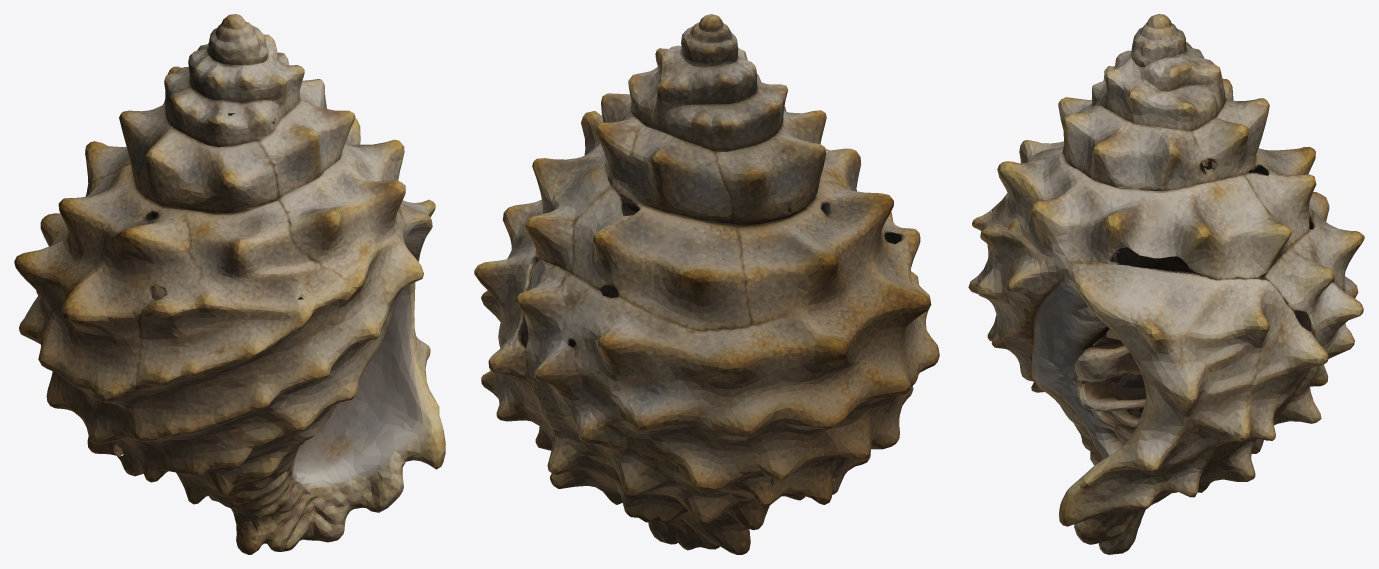
The picture shows the model from 3 angles, left to right: view 1: azimuth 30°, elevation 25°; view 2: azimuth 150°, elevation 25°; view 3: azimuth 270°, elevation 25°; orthographic projection. The views are drawn at different scales.
Visible parts, largest first — view 1: world; view 2: world; view 3: world.
Part boxes in pixels (x1,y1,x2,y2): world: (14, 14, 445, 554); world: (474, 14, 939, 554); world: (968, 14, 1364, 554).
Bounding box in the file's own units: 0.7748 × 0.998 × 0.707.
1 material, 1 textured.
